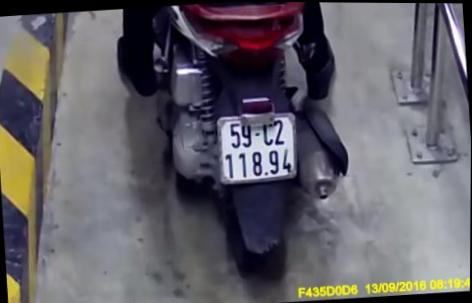LP: (213, 109, 301, 186)
